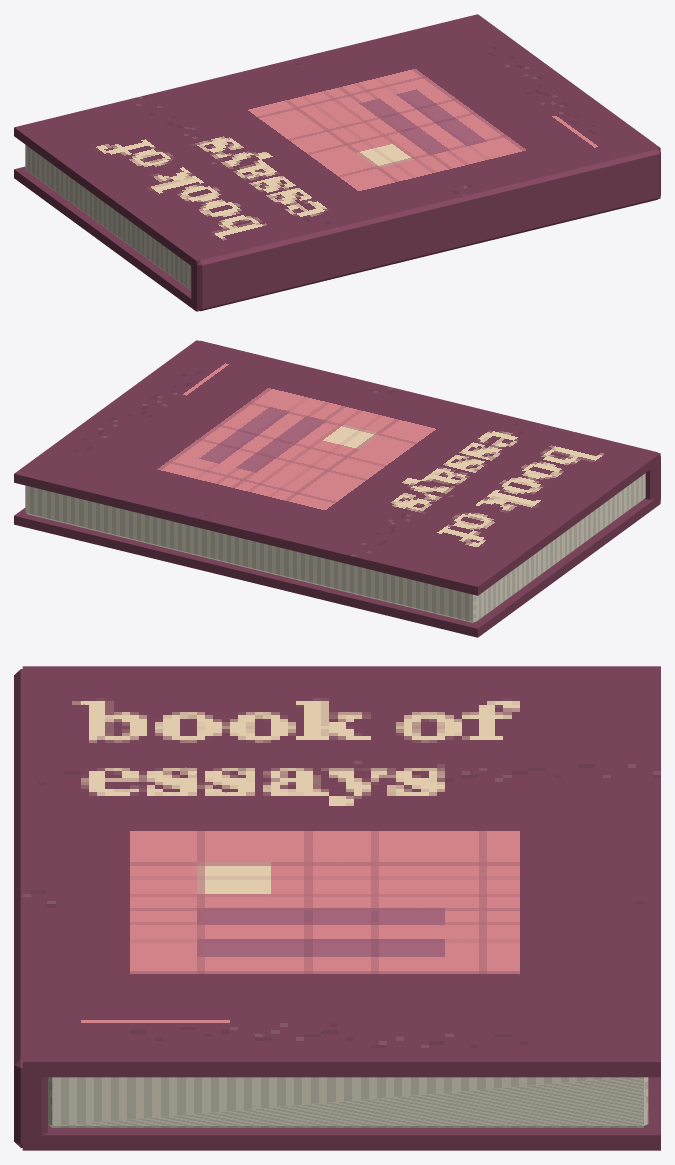
File: essay_book.glb
3 renders of one model, top to bottom at view 1: azimuth 30°, elevation 25°; view 2: azimuth 150°, elevation 25°; view 3: azimuth 270°, elevation 25°, orthographic. The views are drawn at different scales.
Visible parts, largest first — view 1: block_front, block_spine, block_pages, block_back; view 2: block_front, block_pages, block_back, block_spine; view 3: block_front, block_pages, block_back, block_spine.
Boxes of the visible parts, x1,y1,x2,y2 form: block_front: (14, 14, 660, 269); block_spine: (191, 149, 660, 311); block_pages: (25, 145, 191, 290); block_back: (14, 166, 660, 311); block_front: (14, 340, 660, 595); block_pages: (25, 473, 645, 623); block_back: (14, 495, 660, 637); block_spine: (196, 340, 660, 499); block_front: (22, 666, 660, 1077); block_pages: (48, 1077, 648, 1127); block_back: (22, 1077, 660, 1150); block_spine: (14, 669, 47, 1147).
Bounding box in the file's own units: 0.22 × 0.023 × 0.152.
Materials: 1 (1 with a texture image).
